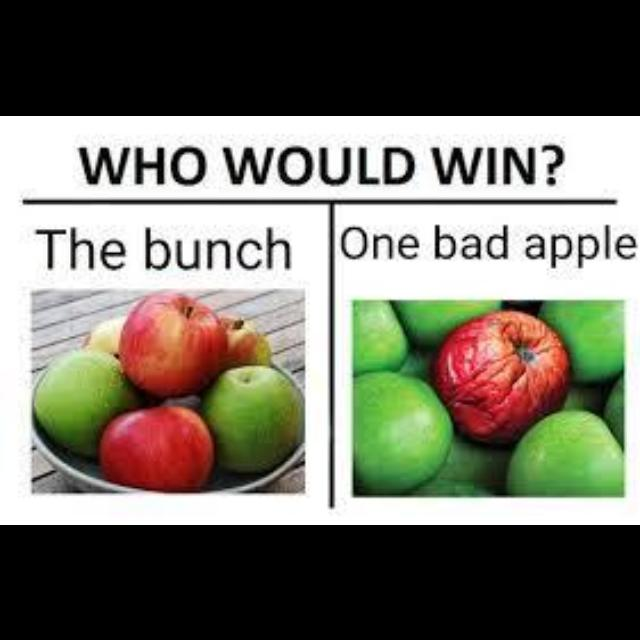apple: (430, 311, 569, 441), (353, 370, 451, 493), (34, 350, 141, 454), (118, 293, 225, 395), (200, 366, 301, 470), (506, 409, 622, 495), (100, 407, 214, 491), (540, 299, 622, 381), (394, 299, 499, 345), (351, 299, 408, 372)
rotten: (430, 311, 569, 441)
